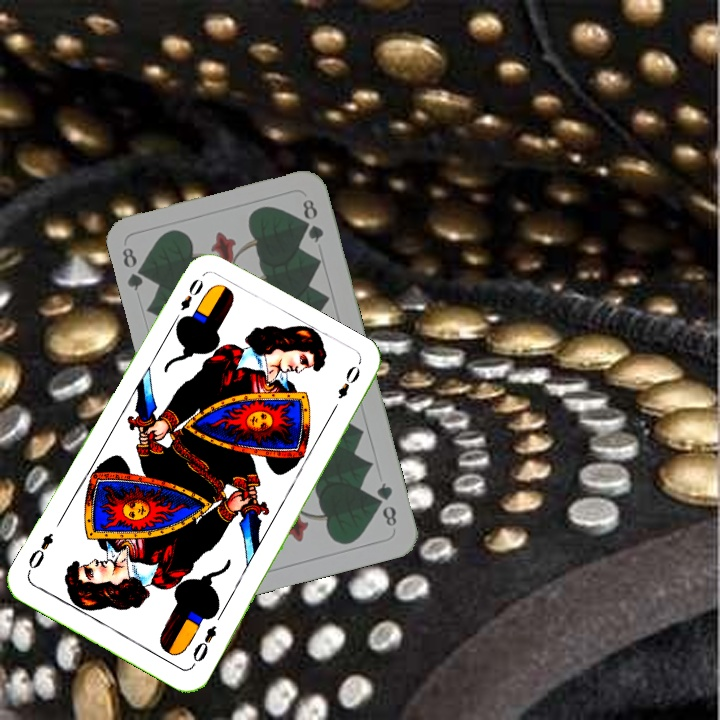EO: (169, 274, 206, 327), (187, 621, 220, 669)
G8: (118, 243, 151, 294), (372, 478, 400, 529)
